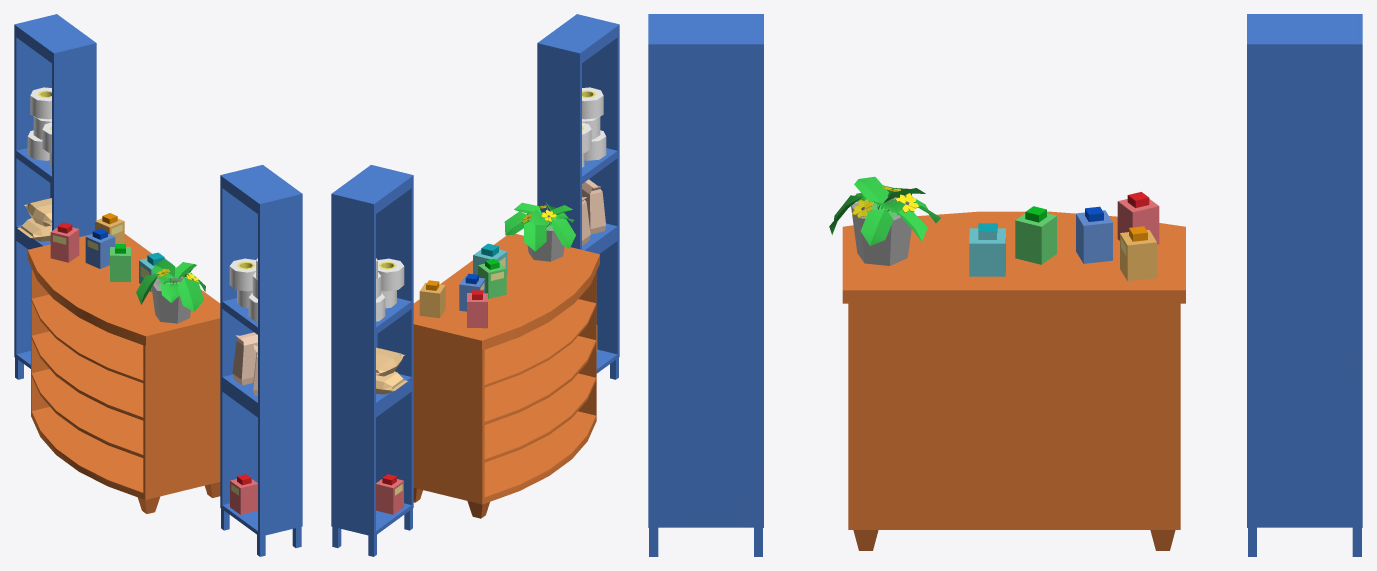
File: BanosObjetos07.fbx
3 views of the same model, side by side, from view 1: azimuth 30°, elevation 25°; view 2: azimuth 150°, elevation 25°; view 3: azimuth 270°, elevation 25° (orthographic). The views are drawn at different scales.
Parts seen in each view (by area): view 1: BanosObjetos07; view 2: BanosObjetos07; view 3: BanosObjetos07.
Part boxes in pixels (<box>): BanosObjetos07: <box>14,14,302,556</box>; BanosObjetos07: <box>331,14,619,556</box>; BanosObjetos07: <box>648,14,1362,556</box>.
Size of the model in its own units: 77.13 by 233 by 294.
